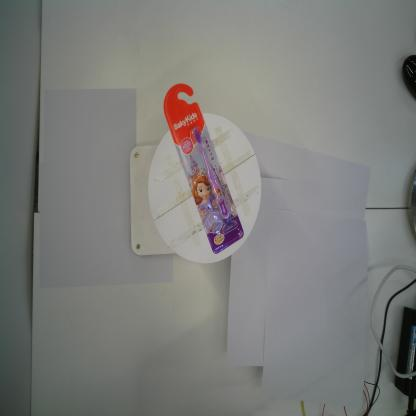Personal Hygiene: (164, 83, 244, 255)
